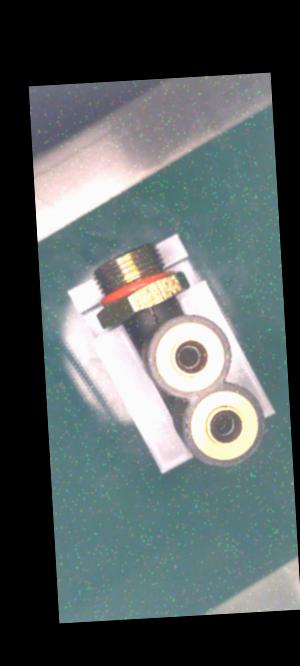craze: (149, 307, 161, 325)
